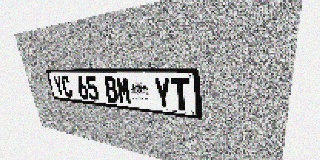5: (85, 76, 100, 101)
6: (75, 76, 89, 100)
B: (103, 76, 119, 103)
C: (60, 76, 73, 98)
M: (115, 77, 132, 105)
T: (171, 78, 191, 111)
Y: (153, 77, 172, 109), (52, 75, 65, 97)
